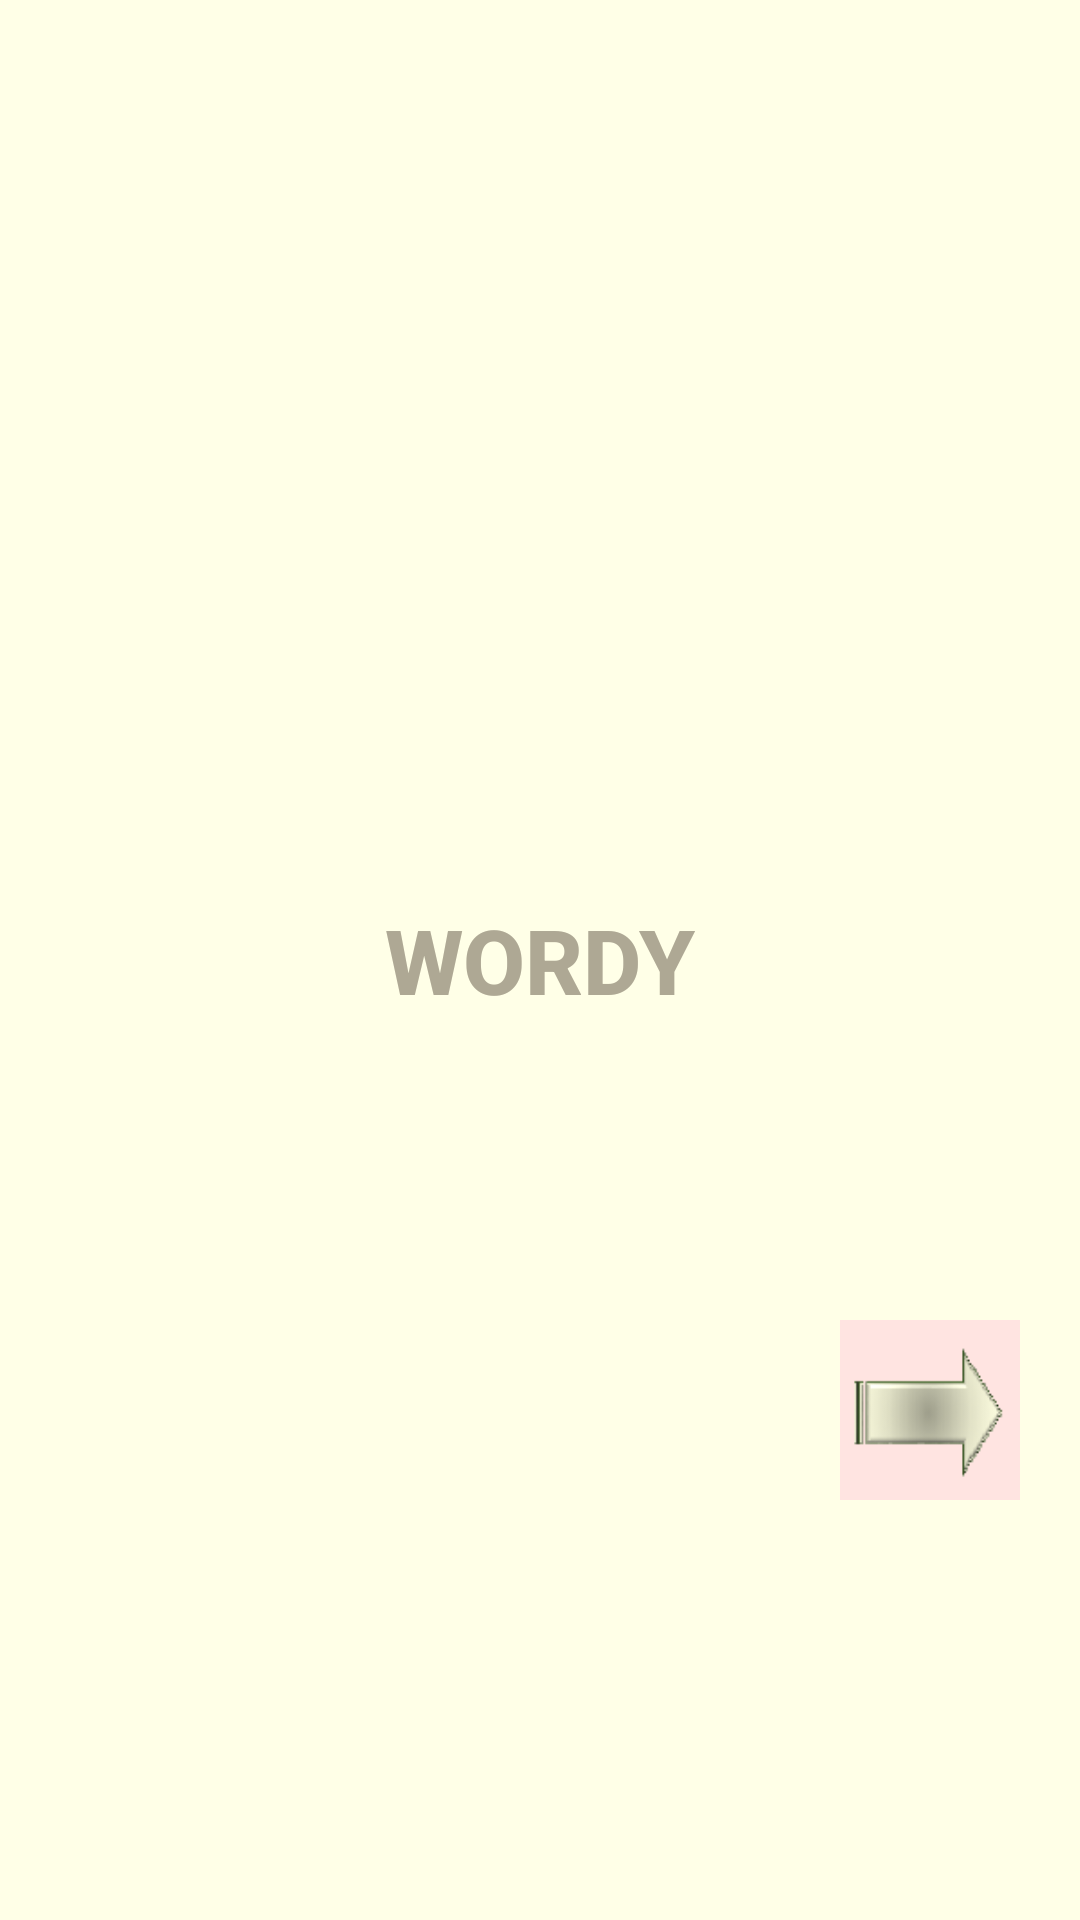

Screen size 1080*1920. Icon name, then its box in pixels as (x1, y1, x2, y2):
rightarrow: (840, 1320, 1020, 1500)
